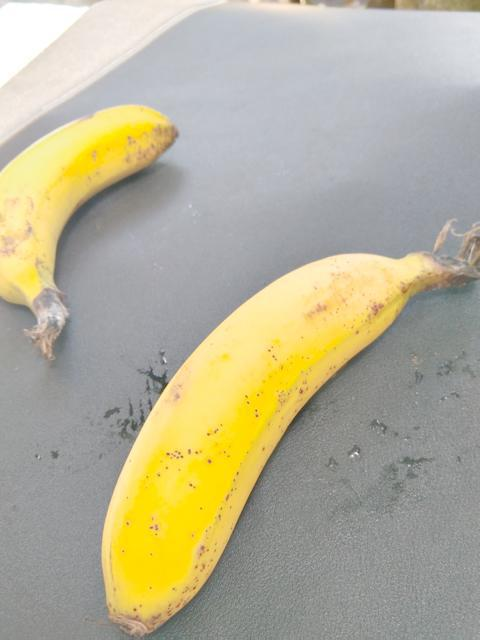ripe: (83, 236, 422, 639), (0, 86, 192, 331)
